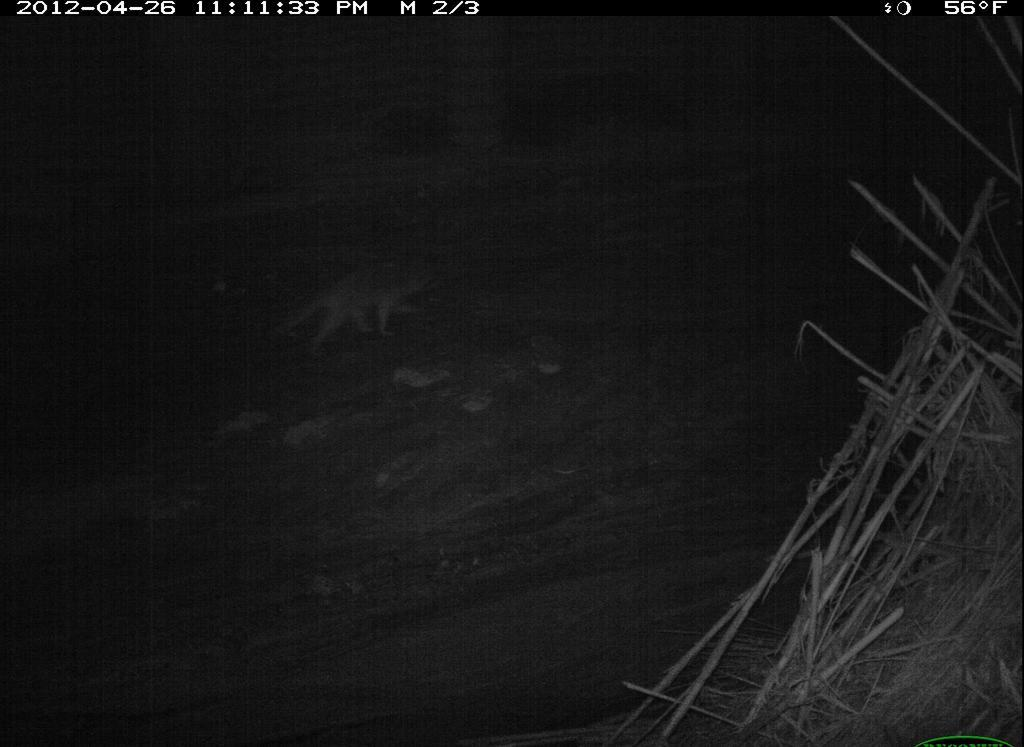raccoon: (268, 241, 455, 367)
